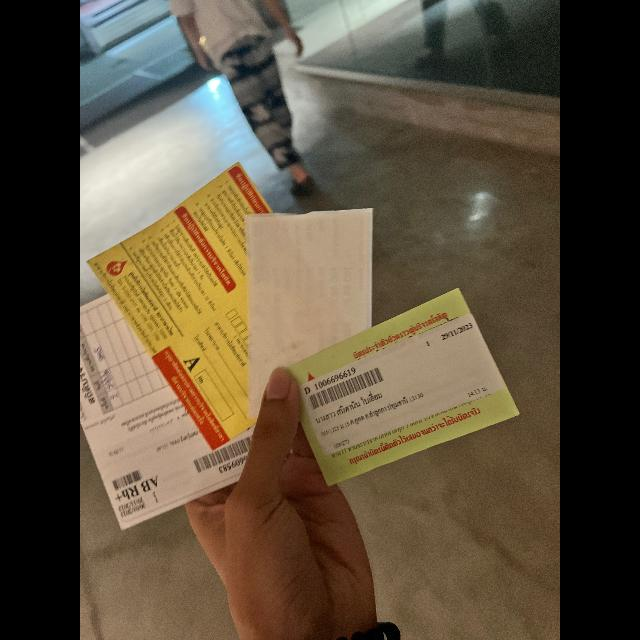scrap_paper: (88, 162, 300, 450), (278, 279, 528, 496), (80, 273, 266, 523), (242, 190, 384, 422)
